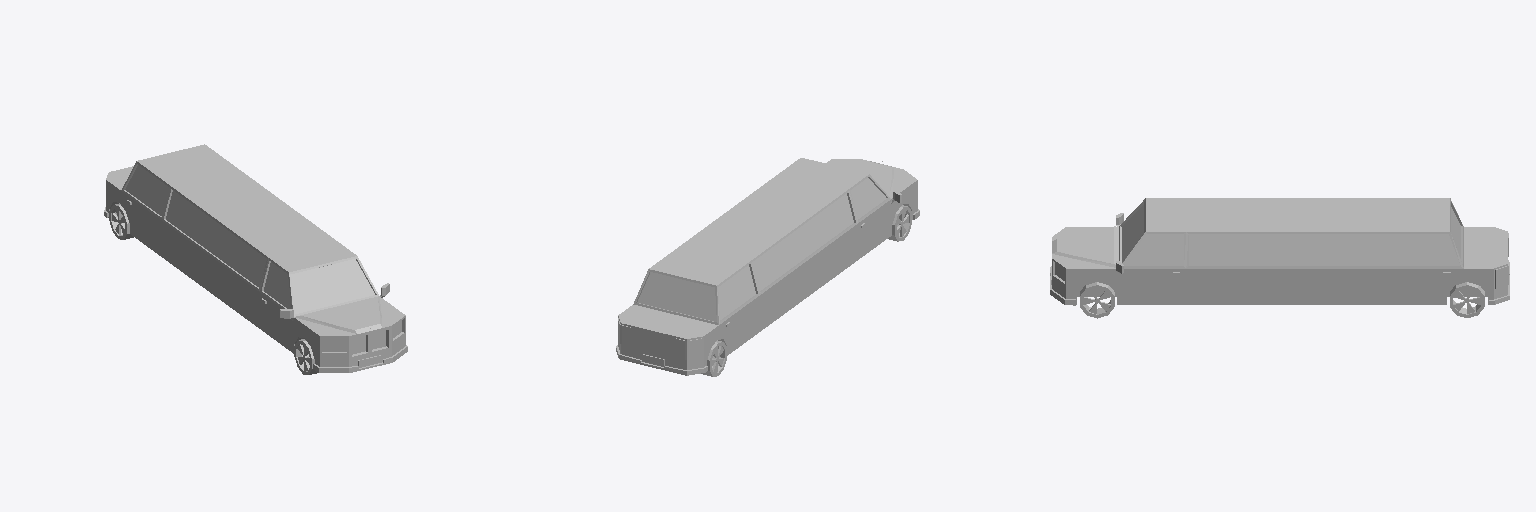
The model's file is limousine.obj.
The picture shows the model from 3 angles: view 1: azimuth 30°, elevation 25°; view 2: azimuth 150°, elevation 25°; view 3: azimuth 270°, elevation 25°; orthographic projection.
Parts seen in each view (by area): view 1: Limousine; view 2: Limousine; view 3: Limousine.
Part boxes in pixels (bbox=[...]): Limousine: bbox=[104, 144, 407, 374]; Limousine: bbox=[616, 158, 919, 376]; Limousine: bbox=[1050, 198, 1509, 318].
Bounding box in the file's own units: 2.81 × 2.01 × 10.24.